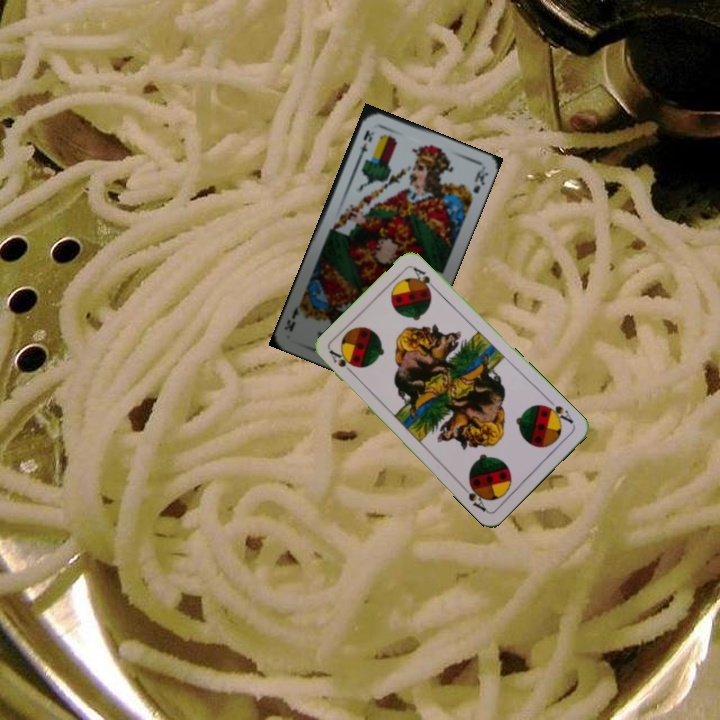EK: (354, 125, 377, 161)
SA: (539, 395, 576, 426), (326, 346, 358, 379)
